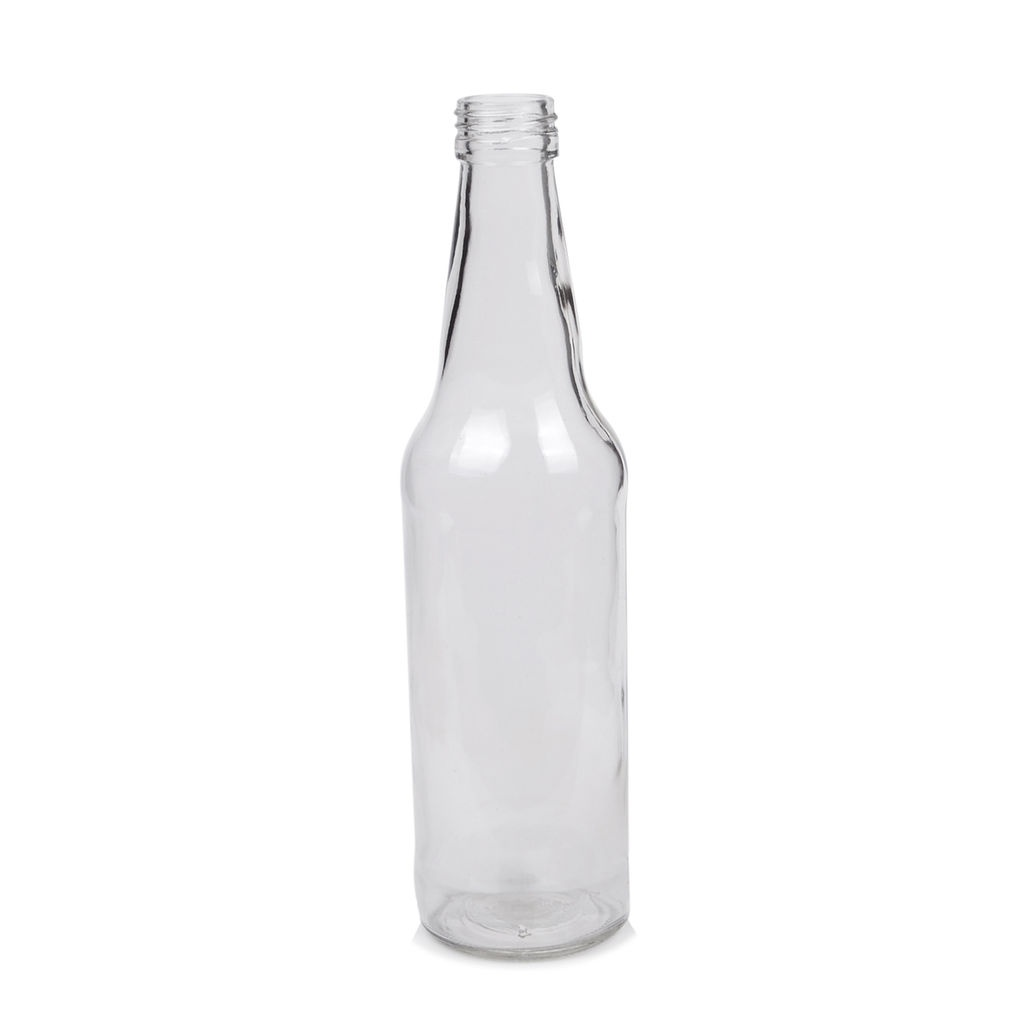emptybottle: (405, 96, 632, 960)
